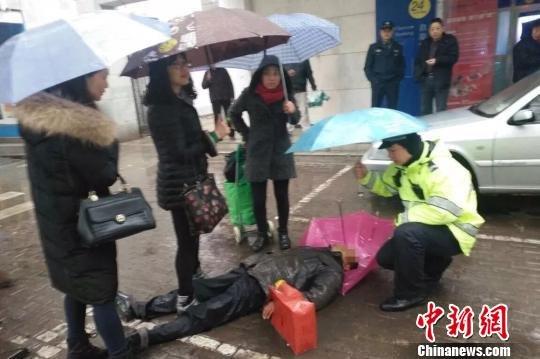fall: (112, 230, 363, 358)
